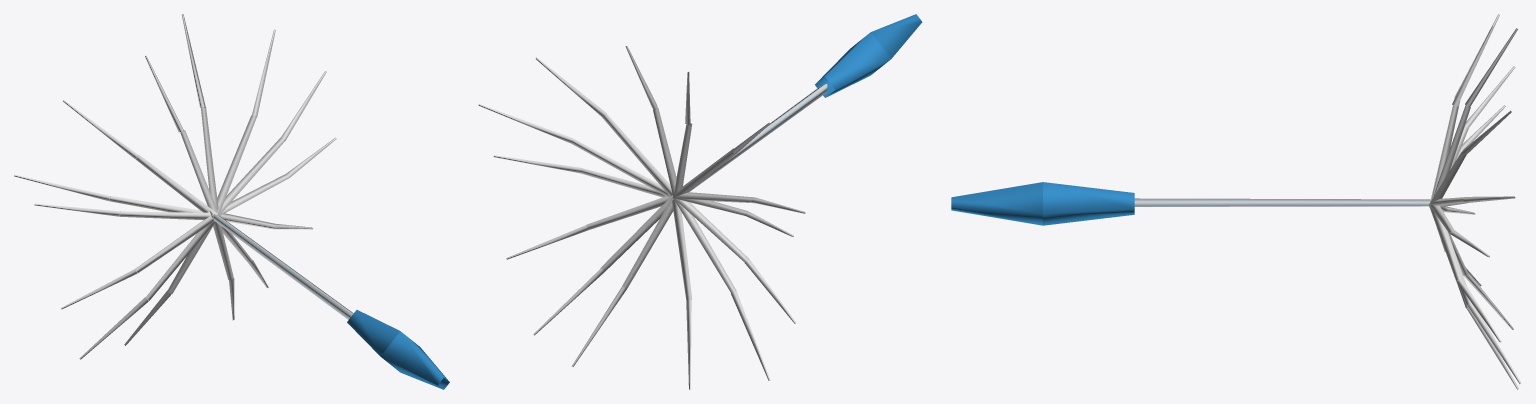
Rendered from DandelionSeed.fbx.
3 views of the same model, side by side, from view 1: azimuth 30°, elevation 25°; view 2: azimuth 150°, elevation 25°; view 3: azimuth 270°, elevation 25° (orthographic). The views are drawn at different scales.
Parts seen in each view (by area): view 1: DandelionSeedMesh; view 2: DandelionSeedMesh; view 3: DandelionSeedMesh.
Part boxes in pixels (x1,y1,x2,y2): DandelionSeedMesh: (14, 14, 449, 389); DandelionSeedMesh: (478, 14, 922, 389); DandelionSeedMesh: (951, 14, 1521, 389).
Size of the model in its own units: 0.1258 by 0.1228 by 0.1892.
